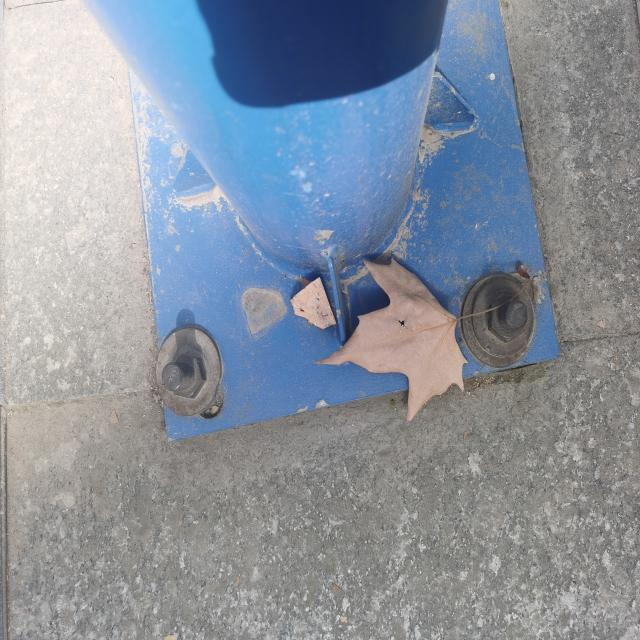bolt nut: (488, 290, 527, 343), (168, 353, 208, 400)
